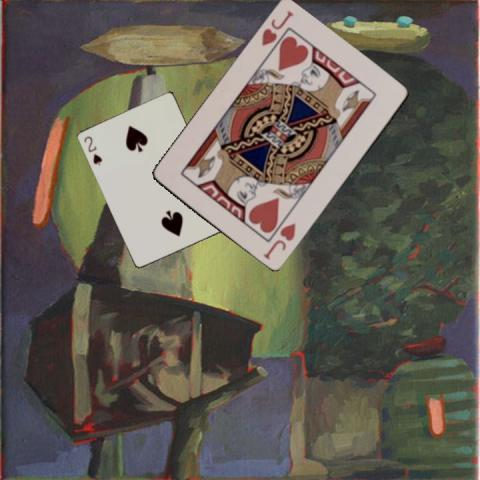2s: (82, 133, 104, 166)
Jh: (260, 220, 297, 262), (259, 8, 295, 48)
